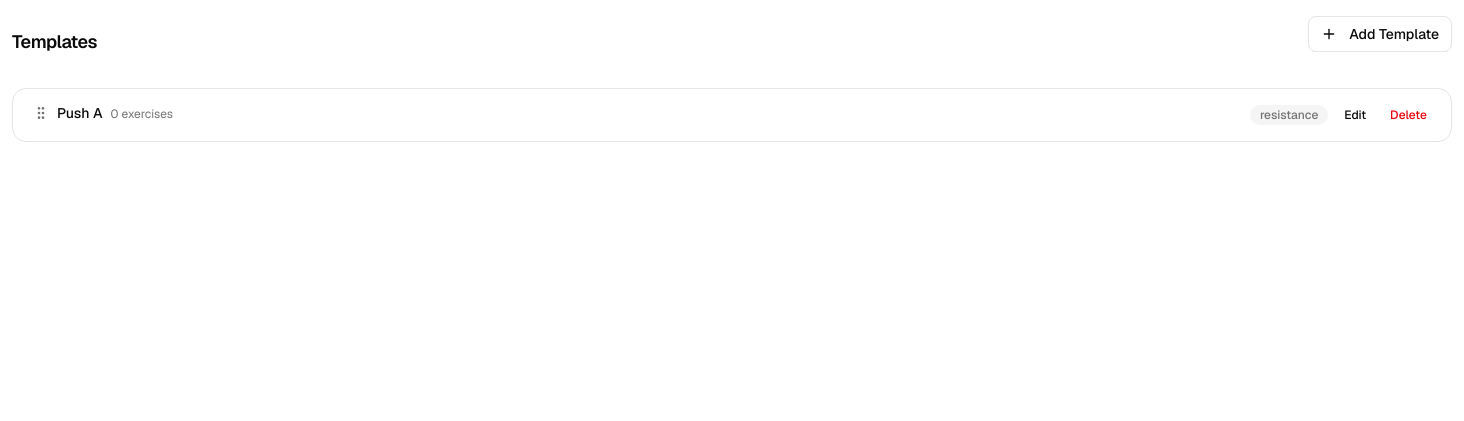
Scenario: TemplateSection — characterization › shows canonical name in edit mode
Expected: the text "push-a-v2" is not shown
Click the button "Edit".
click(1355, 115)  # box [1336, 101, 1374, 129]
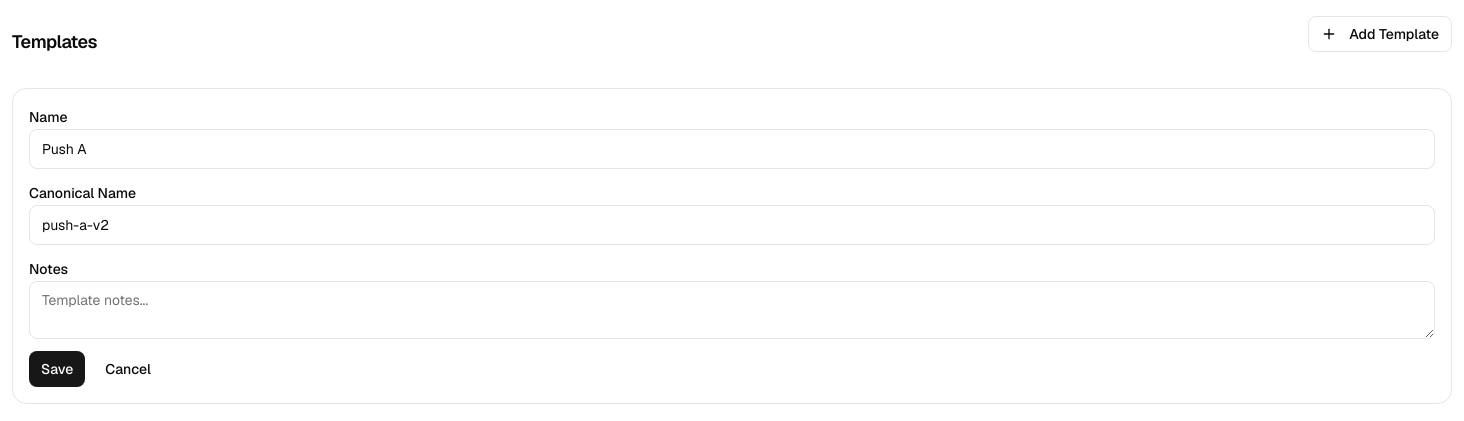
Result: the field showing "push-a-v2" is shown at [29, 205, 1435, 245]
